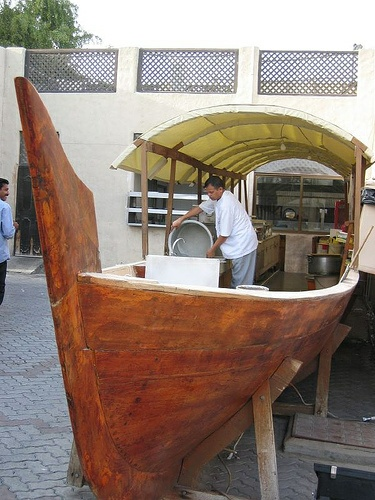without_mask: (202, 180, 225, 202), (1, 178, 10, 203)
